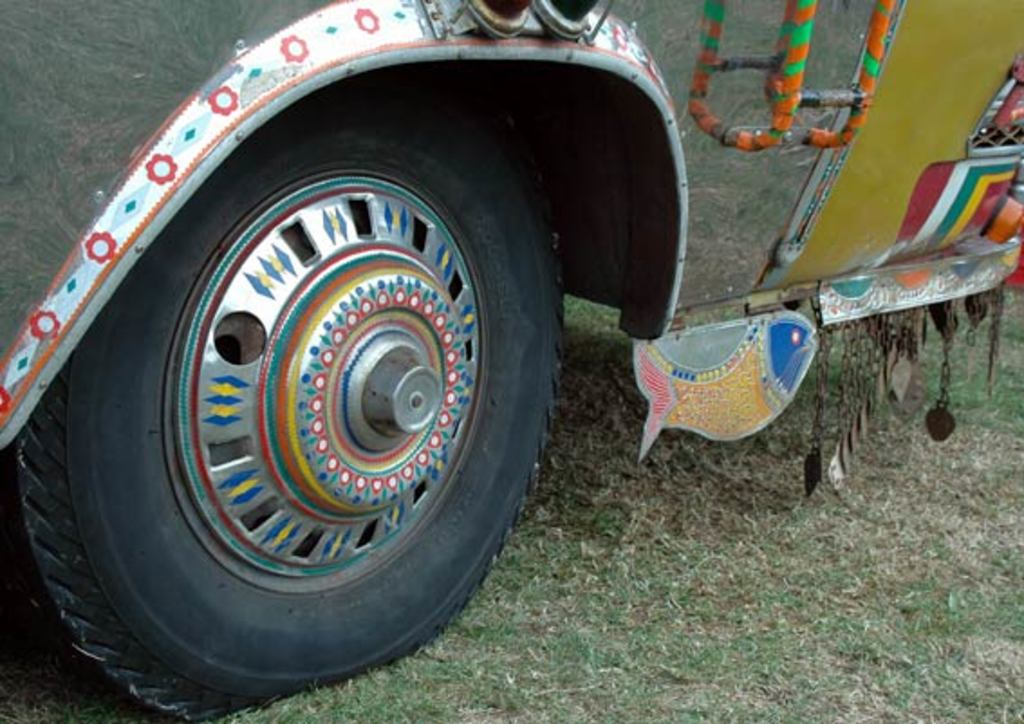Car: (0, 0, 1022, 722)
